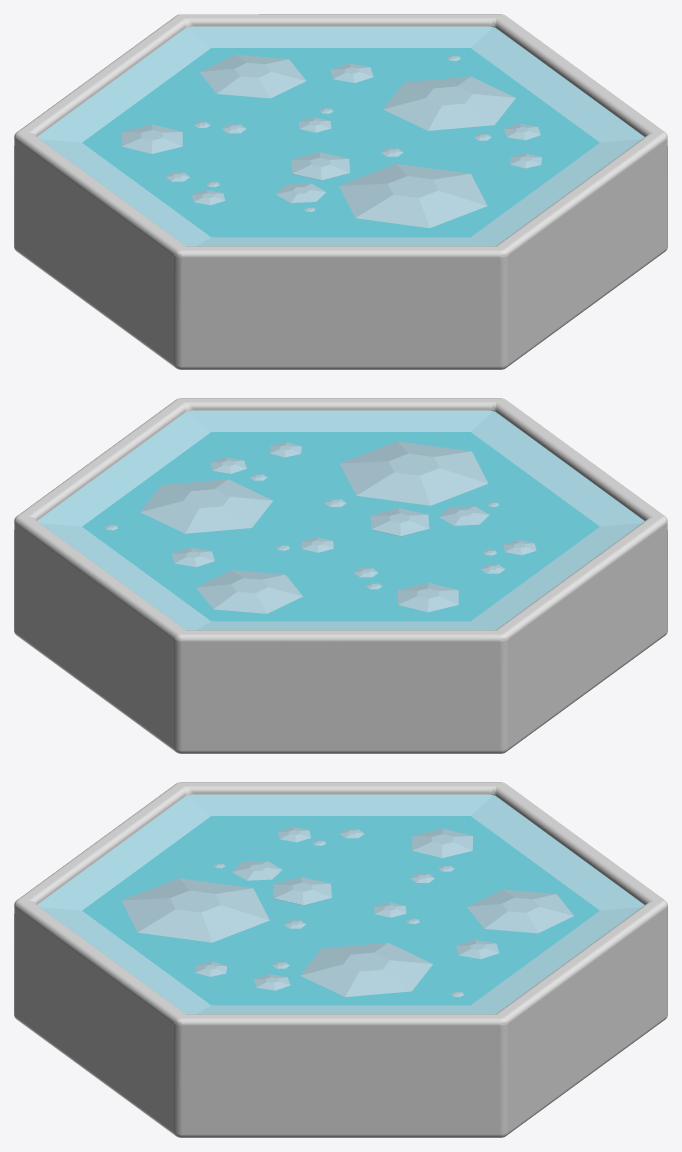
File: ice_base.fbx
The picture shows the model from 3 angles, top to bottom: view 1: azimuth 30°, elevation 25°; view 2: azimuth 150°, elevation 25°; view 3: azimuth 270°, elevation 25°; orthographic projection.
Visible parts, largest first — view 1: ice base, ice; view 2: ice base, ice; view 3: ice base, ice.
Part boxes in pixels (box(x1,y1,x2,y2)): ice base: box(14, 14, 667, 369); ice: box(37, 26, 644, 246); ice base: box(14, 398, 667, 753); ice: box(37, 410, 644, 630); ice base: box(14, 782, 667, 1137); ice: box(37, 794, 644, 1014).
Size of the model in its own units: 866 by 200 by 996.
